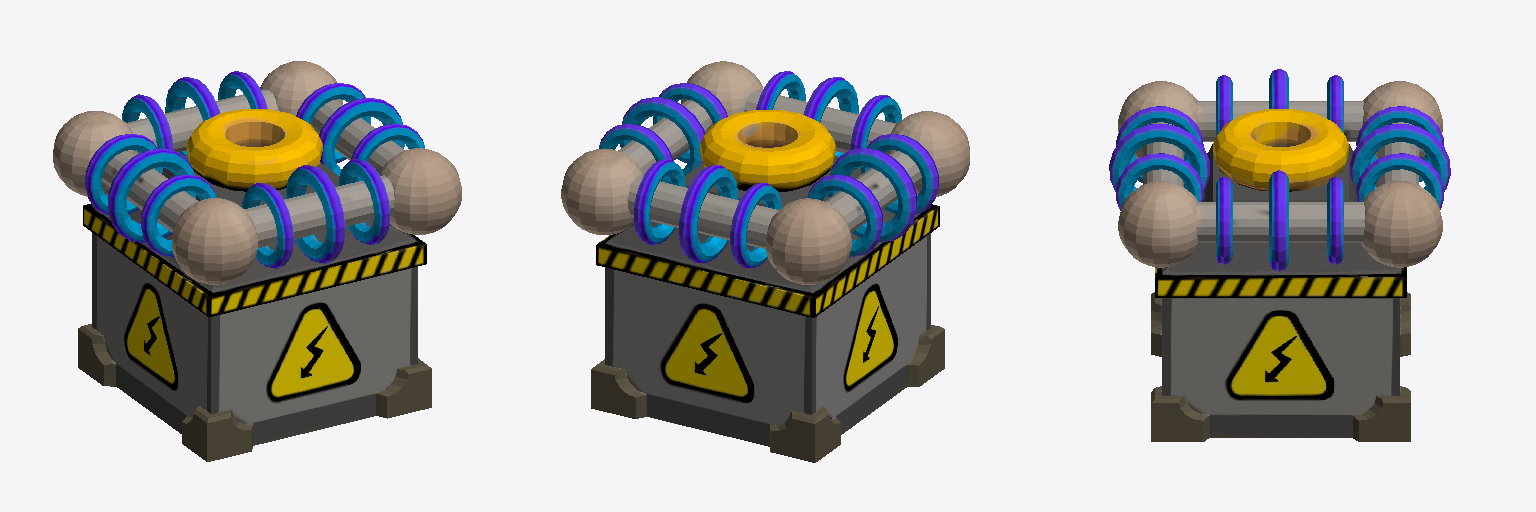
3 renders of one model, left to right at view 1: azimuth 30°, elevation 25°; view 2: azimuth 150°, elevation 25°; view 3: azimuth 270°, elevation 25°, orthographic.
Visible parts, largest first — view 1: pCube1, pTorus19, pSphere5, pCylinder3, pTorus1; view 2: pCube1, pTorus19, pSphere5, pCylinder3, pTorus1; view 3: pCube1, pTorus19, pSphere5, pCylinder3, pTorus1.
Part boxes in pixels (left/top/right/bottom): pCube1: left=78, top=155, right=431, bottom=461; pTorus19: left=85, top=71, right=424, bottom=268; pSphere5: left=53, top=61, right=461, bottom=284; pCylinder3: left=102, top=89, right=405, bottom=247; pTorus1: left=187, top=109, right=322, bottom=191; pCube1: left=591, top=156, right=944, bottom=462; pTorus19: left=599, top=71, right=938, bottom=268; pSphere5: left=561, top=61, right=969, bottom=284; pCylinder3: left=618, top=90, right=921, bottom=248; pTorus1: left=700, top=110, right=835, bottom=191; pCube1: left=1151, top=144, right=1410, bottom=441; pTorus19: left=1109, top=69, right=1450, bottom=271; pSphere5: left=1118, top=81, right=1442, bottom=267; pCylinder3: left=1143, top=101, right=1418, bottom=242; pTorus1: left=1213, top=109, right=1348, bottom=191.
Size of the model in its own units: 1.44 by 1.22 by 1.44.
1 materials, 1 textured.